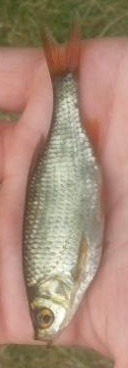Scardinius erythrophthalmus: (20, 20, 108, 348)
